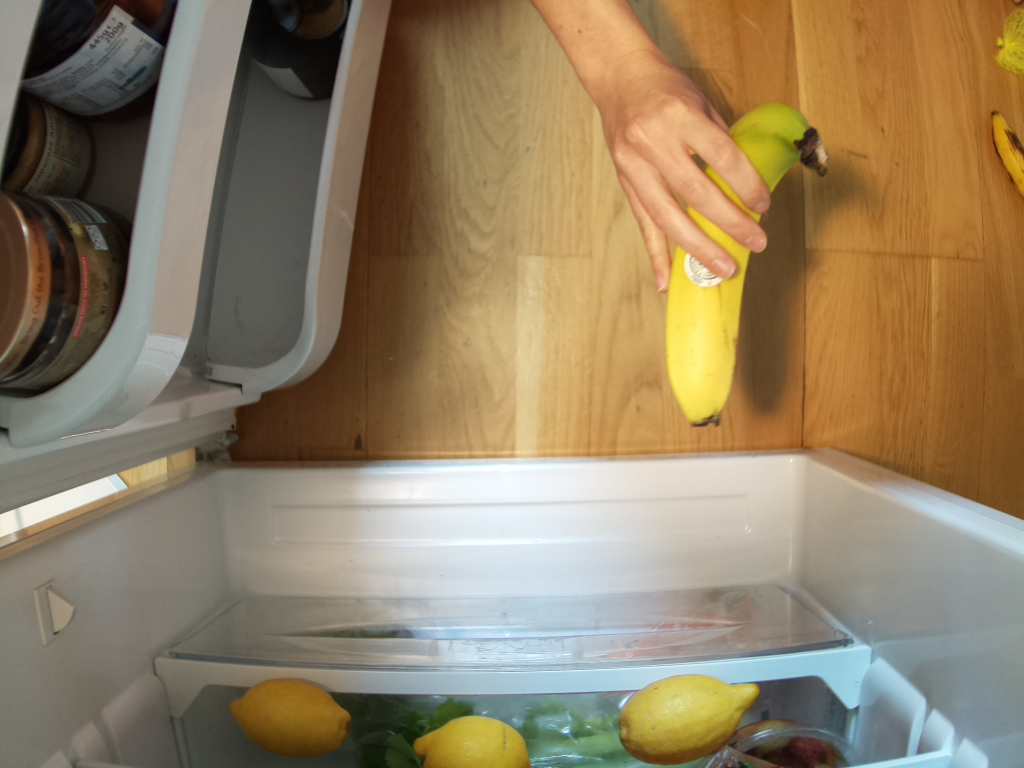banana-unripe: (659, 101, 831, 428)
